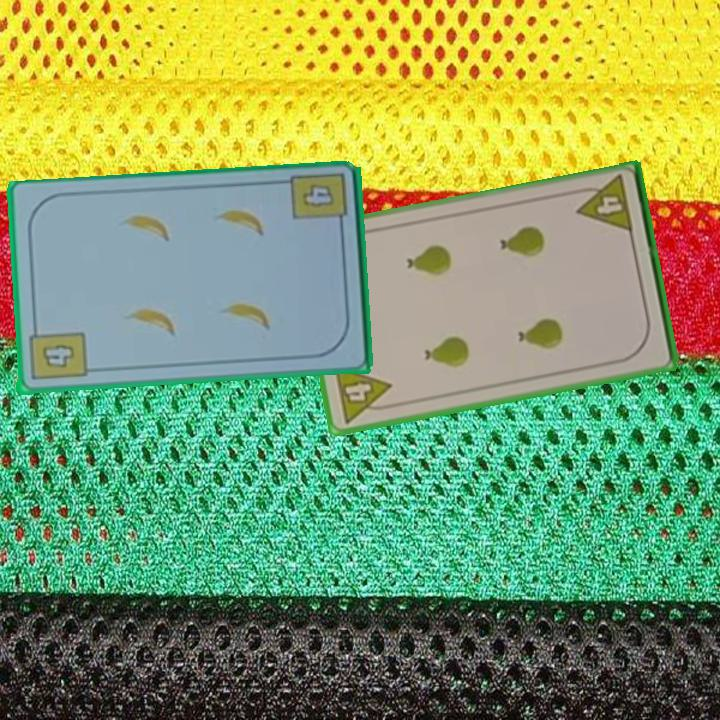4b: (287, 170, 351, 235), (25, 321, 88, 383)
4p: (330, 361, 398, 426), (571, 172, 636, 236)
